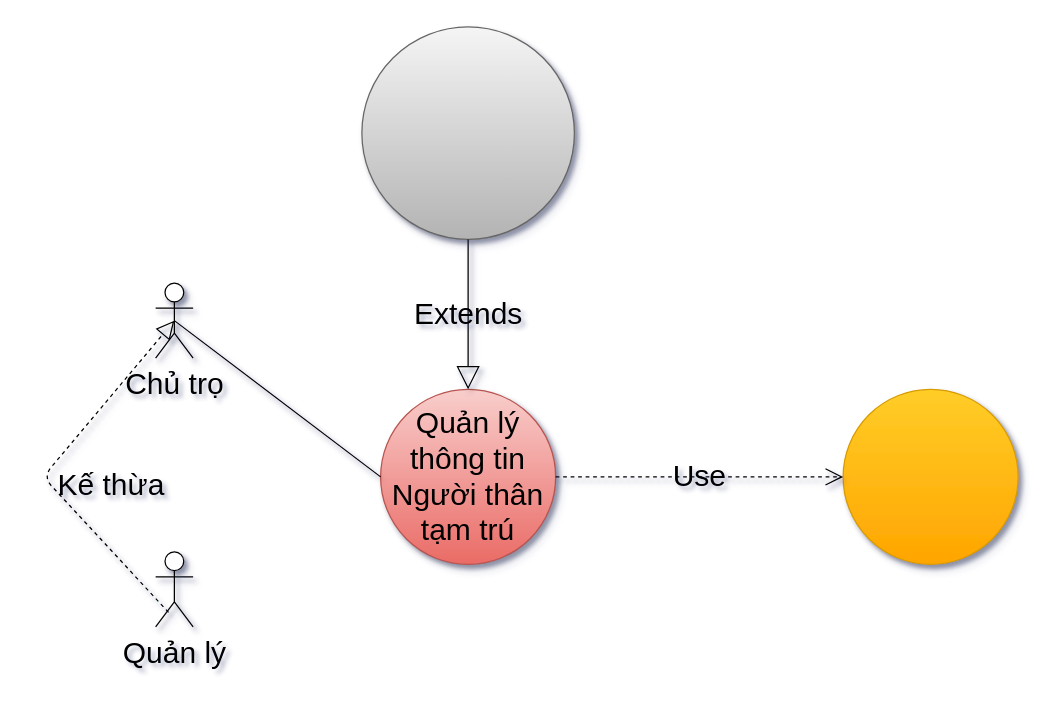
Image size: 1055x701. Some labels were removed from this diagram. Each missing label, with the centre of its shape:
"Thêm, xoá, sửa thông tin người thân" goes at point 469,134.
"Đăng nhập" goes at point 931,478.
